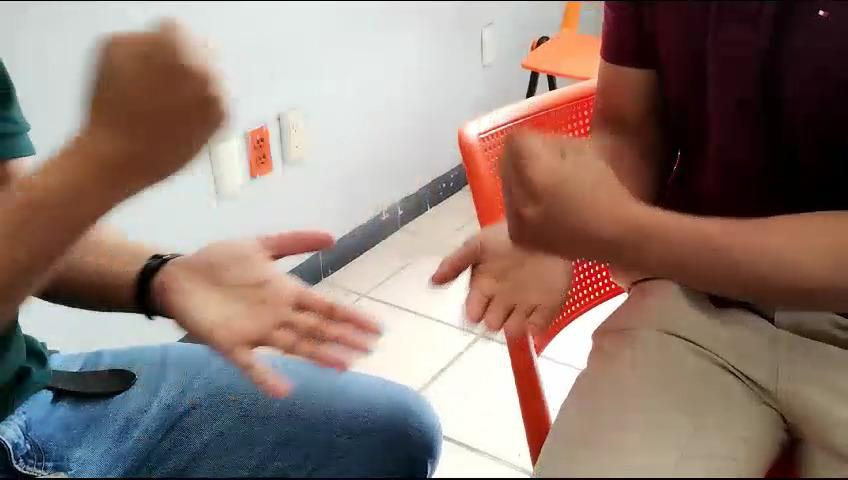Stone: (37, 0, 261, 213), (440, 75, 653, 282)
